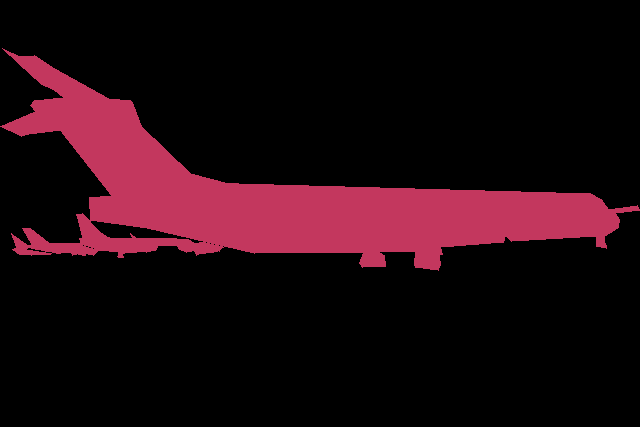Airplane: (0, 48, 639, 271), (76, 213, 200, 258), (22, 228, 98, 256), (11, 233, 51, 255), (176, 242, 223, 256)
